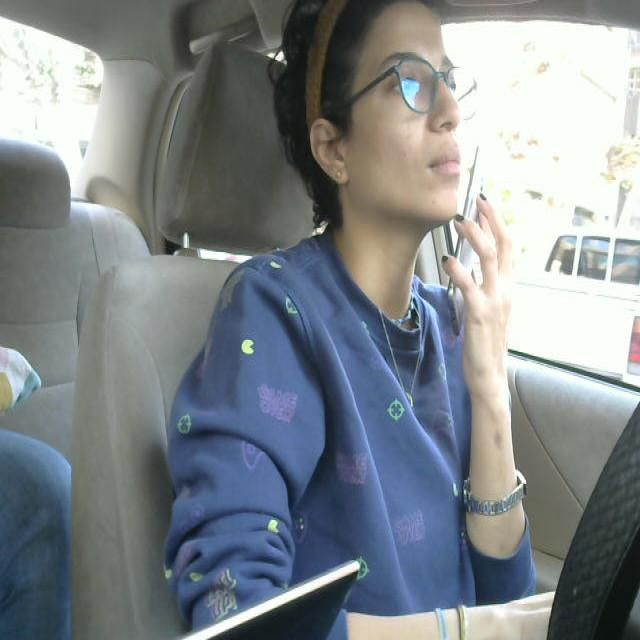mobile use: (438, 125, 503, 328)
